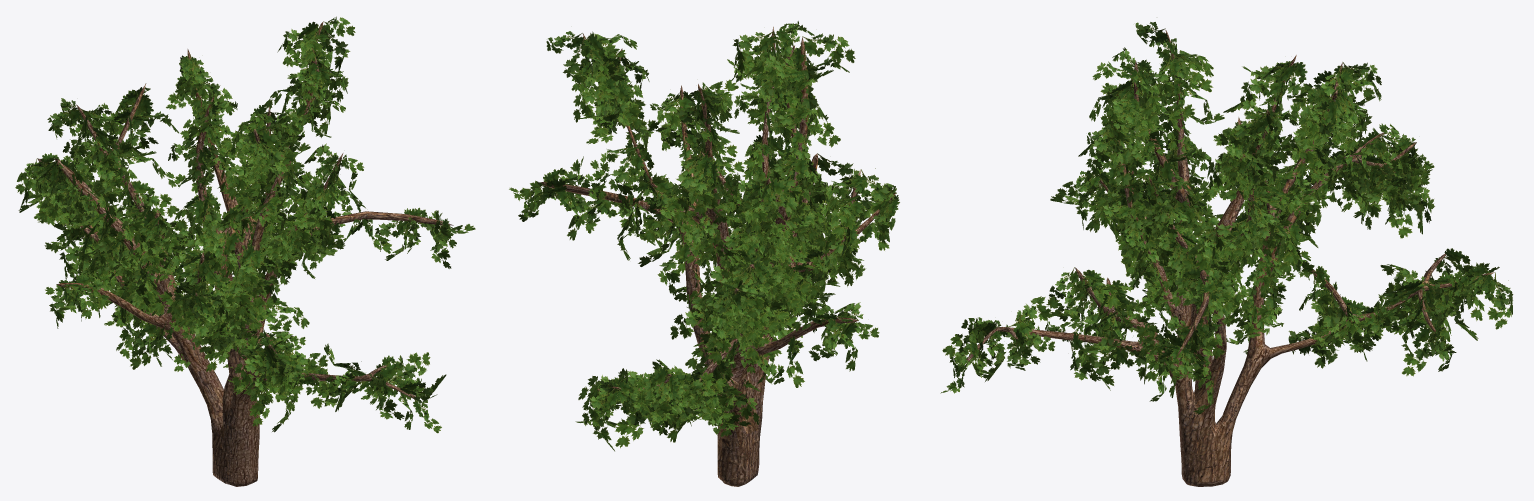
The model's file is tree_in_OBJ.obj.
The picture shows the model from 3 angles, left to right: view 1: azimuth 30°, elevation 25°; view 2: azimuth 150°, elevation 25°; view 3: azimuth 270°, elevation 25°; orthographic projection. The views are drawn at different scales.
Visible parts, largest first — view 1: Cube; view 2: Cube; view 3: Cube.
Part boxes in pixels (bbox=[...]): Cube: bbox=[15, 16, 475, 486]; Cube: bbox=[509, 21, 899, 486]; Cube: bbox=[940, 22, 1513, 486].
Bounding box in the file's own units: 28.12 × 28.99 × 34.57.
